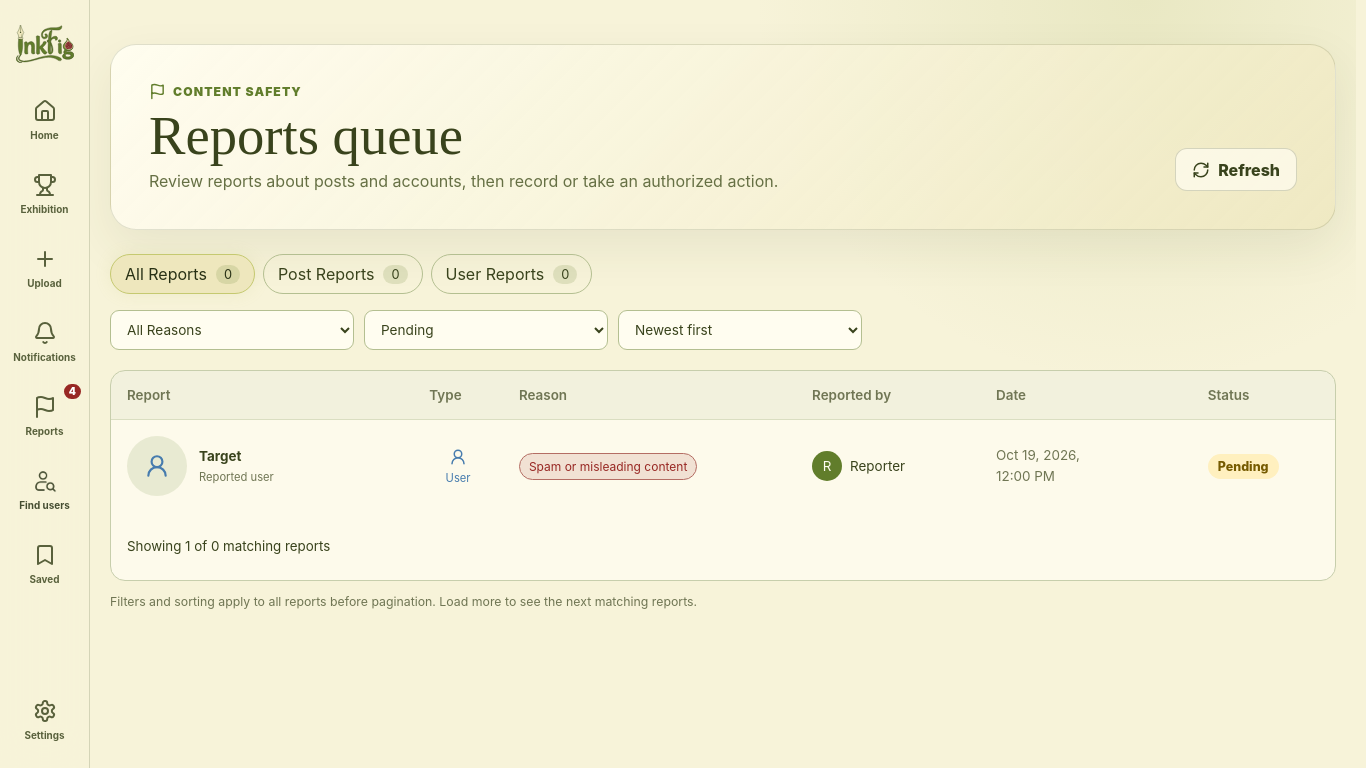
Test: prevents dismissal during review and closes cleanly when the reviewed row leaves the pending filter
This screenshot has width=1366, height=768.
Click the button with class "moderation-target".
click(220, 466)  # box [127, 436, 312, 496]
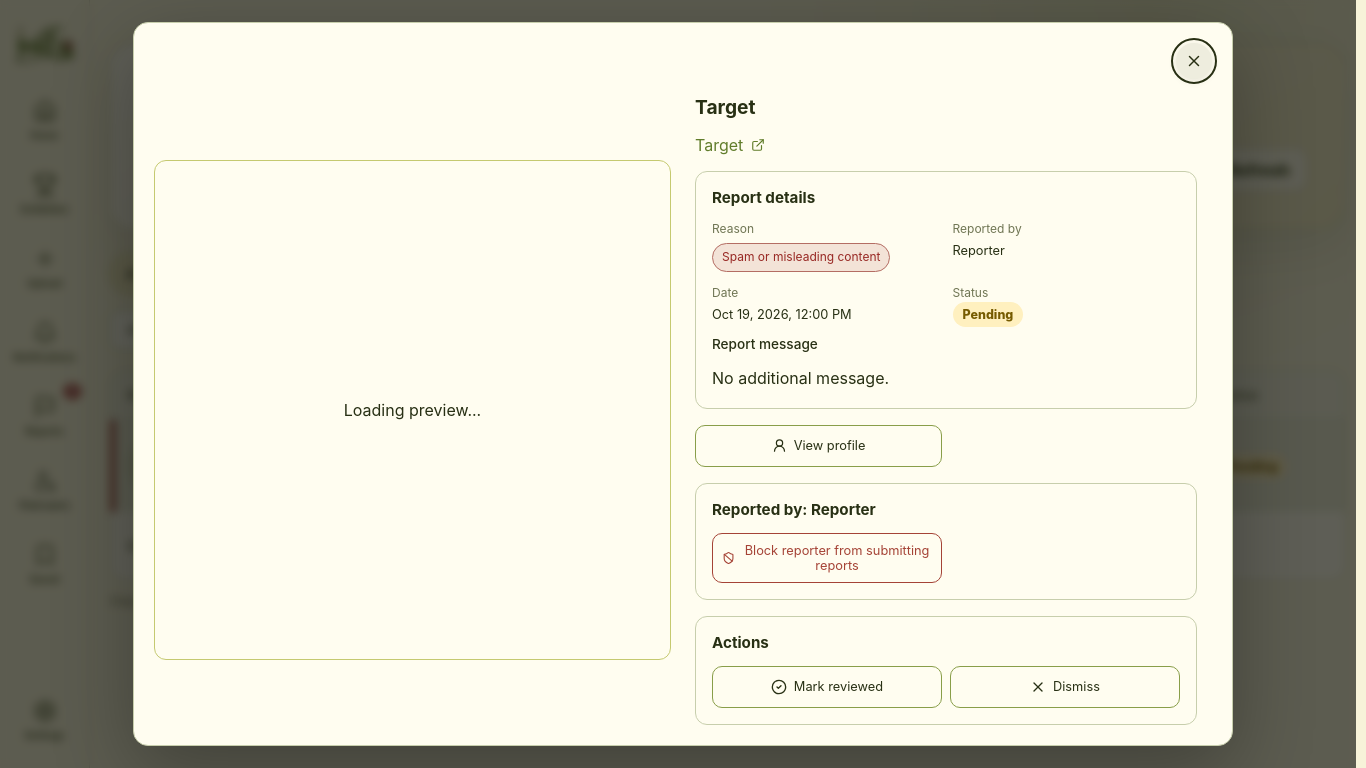
Click the button "Mark reviewed".
click(827, 687)  # box [712, 666, 942, 708]
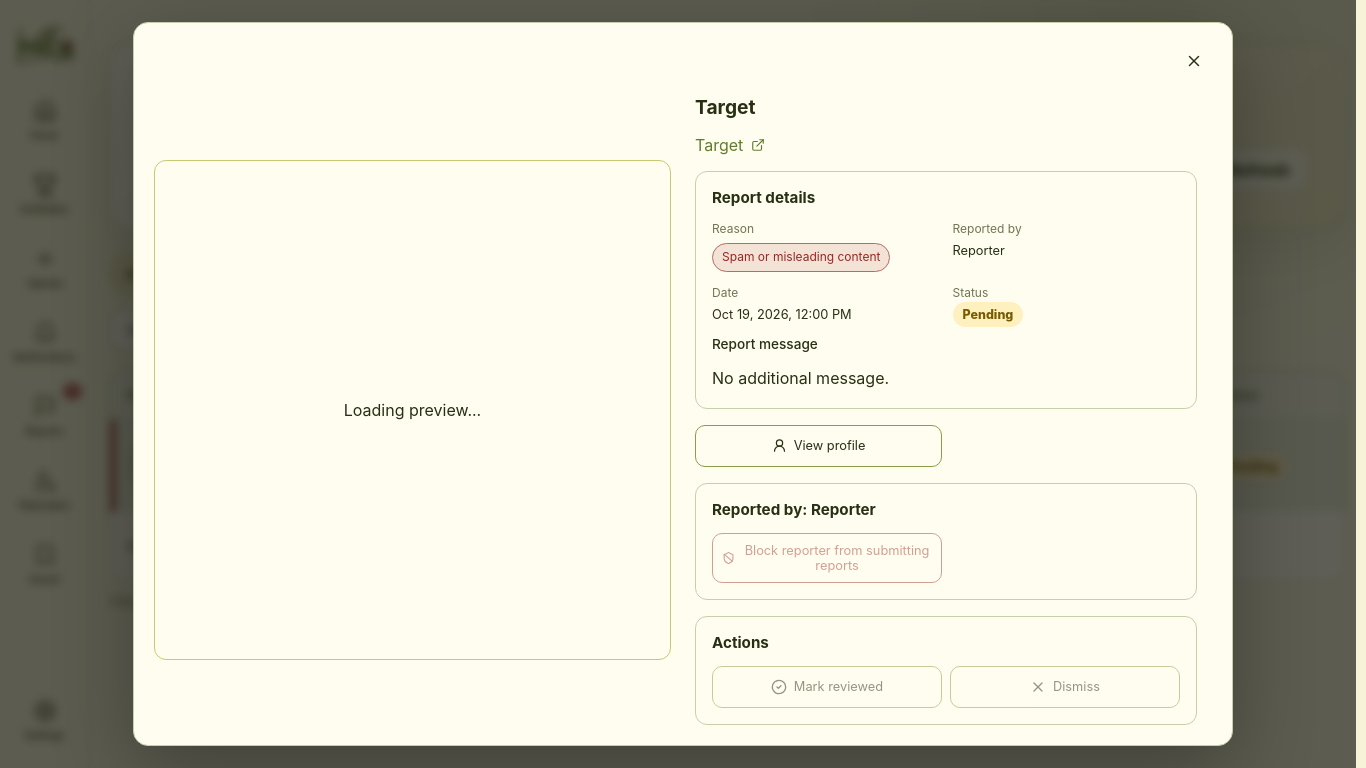
Expected: the button named "Close report details" is disabled, [1176, 43, 1212, 79]
Click the dialog "Report details".
click(683, 66)  # box [133, 22, 1233, 746]
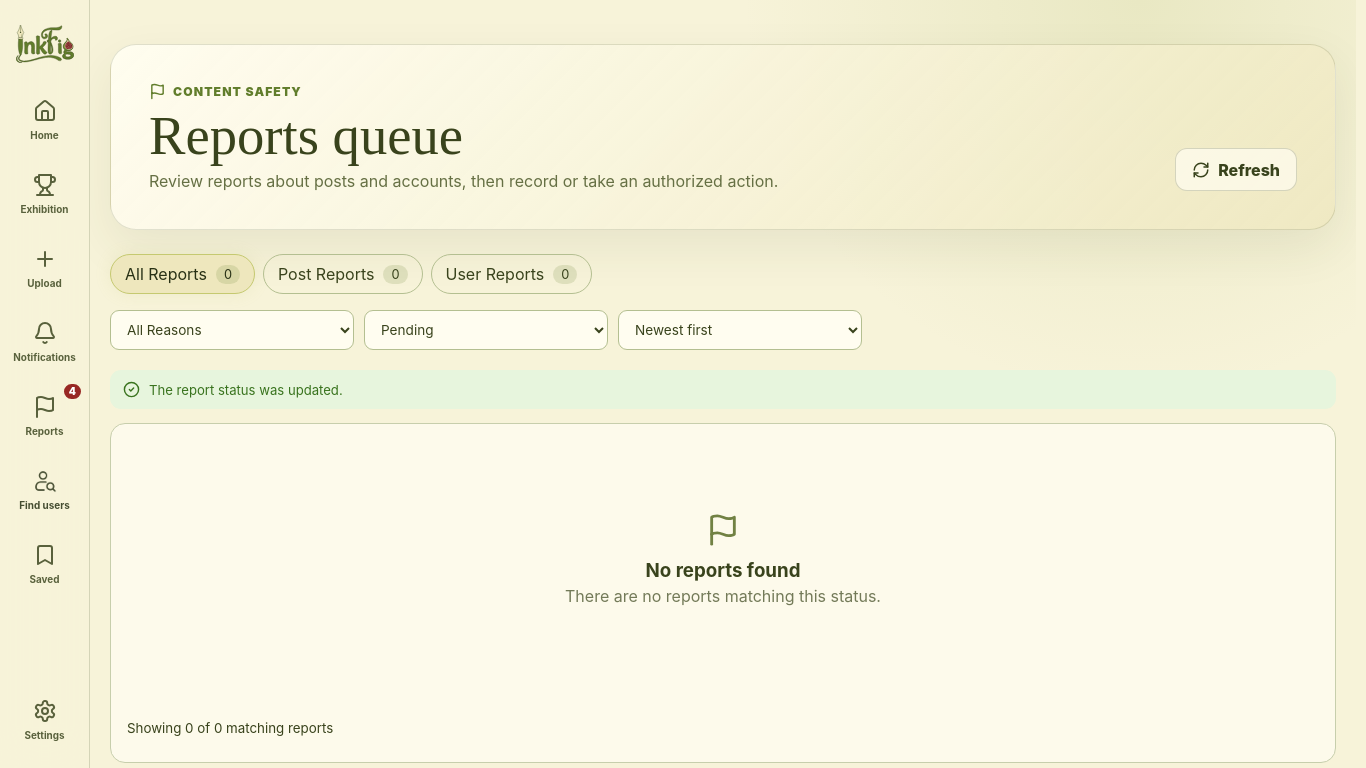
Expected: the dialog is gone
